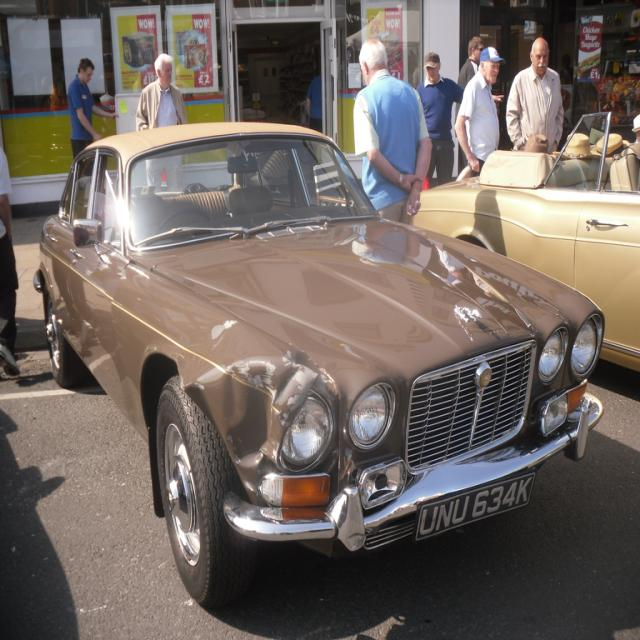car: (32, 120, 605, 606)
